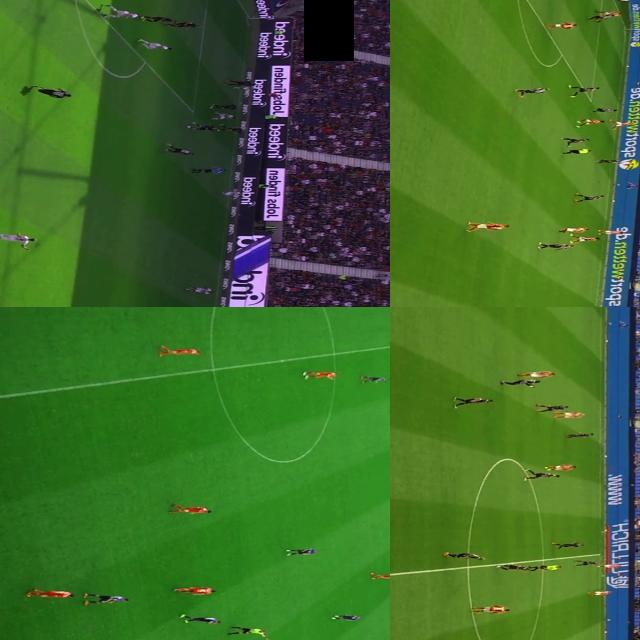player: (23, 588, 79, 602), (162, 502, 214, 516), (30, 85, 76, 100), (0, 231, 39, 248), (100, 4, 138, 20), (152, 344, 202, 356), (168, 584, 217, 596), (184, 120, 222, 134), (535, 240, 574, 253), (177, 614, 219, 626), (325, 612, 361, 626), (136, 37, 174, 49), (466, 220, 510, 230), (452, 396, 496, 406), (472, 606, 514, 616), (297, 370, 336, 380), (565, 85, 597, 97), (572, 117, 610, 126), (571, 192, 605, 202), (515, 88, 549, 98), (565, 430, 597, 440), (444, 551, 484, 559), (496, 564, 536, 572), (552, 226, 586, 235), (565, 235, 599, 244), (520, 371, 558, 379), (208, 102, 237, 112), (504, 378, 540, 386), (208, 111, 236, 121), (542, 22, 576, 30), (552, 541, 586, 549), (167, 144, 193, 154), (284, 548, 316, 556), (537, 404, 569, 412), (588, 106, 618, 114), (554, 411, 584, 419), (594, 562, 624, 570), (219, 189, 245, 198), (361, 573, 390, 581), (596, 227, 621, 236), (561, 136, 589, 144), (586, 13, 618, 20), (584, 590, 612, 598), (188, 287, 215, 295), (167, 21, 203, 27), (227, 78, 257, 85), (222, 127, 248, 135), (361, 375, 387, 383), (546, 462, 572, 470), (526, 473, 560, 479), (140, 16, 173, 22), (607, 120, 635, 127), (576, 560, 600, 568), (596, 157, 622, 164), (596, 12, 622, 18)
